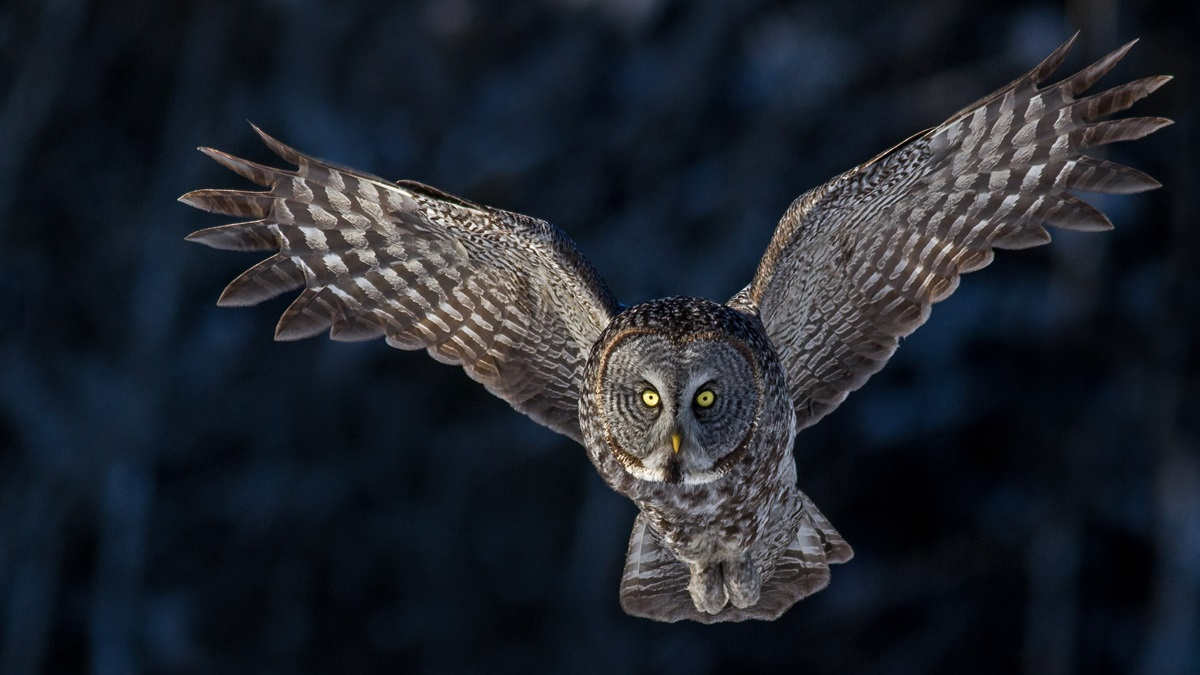owl: (257, 30, 1165, 612)
